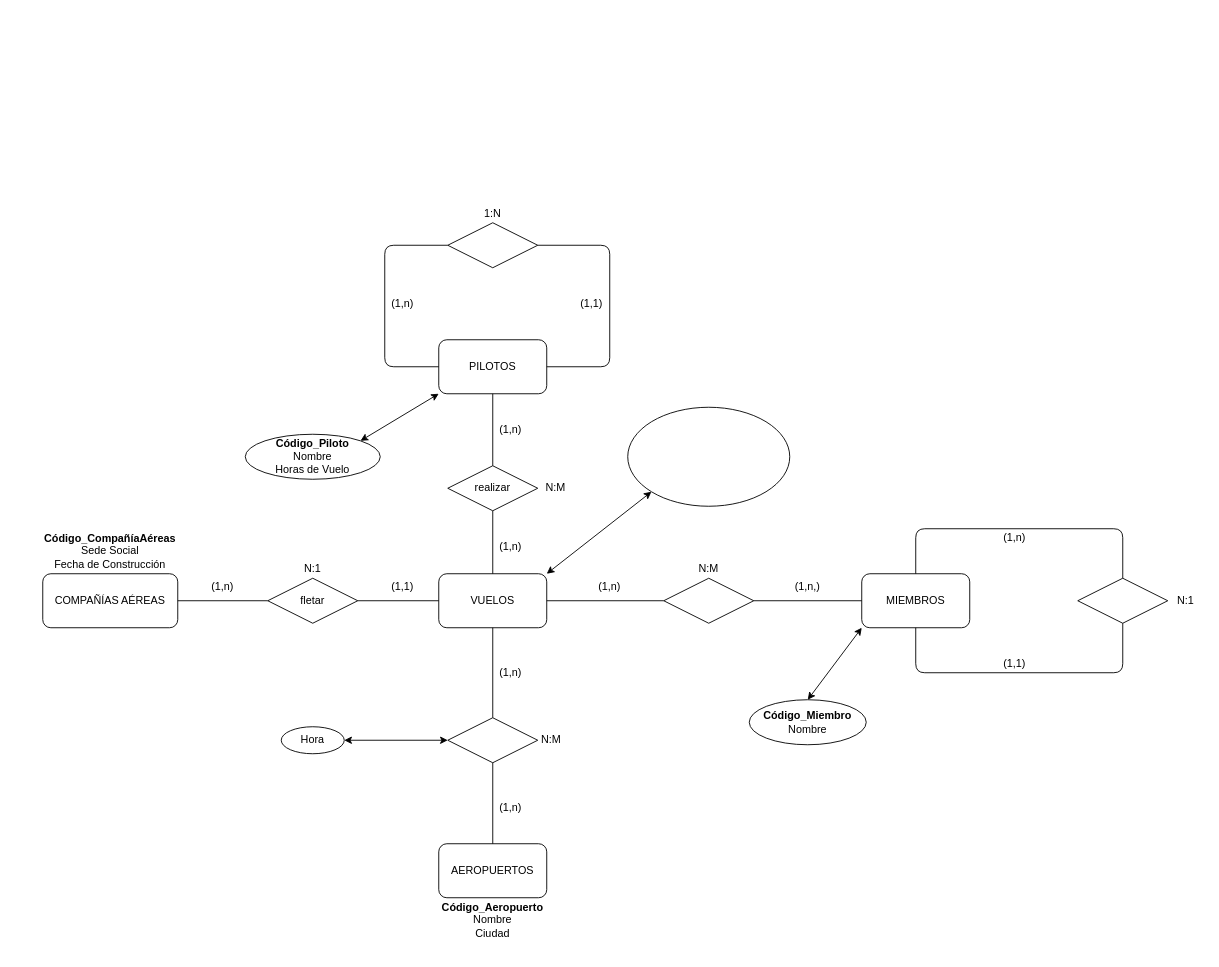
The diagram is 1219 pixels wide and 967 high, and some of its shapes have lost their labels. Here are the shapes that lost their labels. From the top down, the centre of each, then its label:
point (492, 245): ser copiloto
point (708, 456): Número de Vuelo Código_CompañíaAérea Origen Destino Código_Piloto Código_Miembro
point (708, 600): atender
point (1122, 600): ser comandante
point (492, 740): volver o ir
